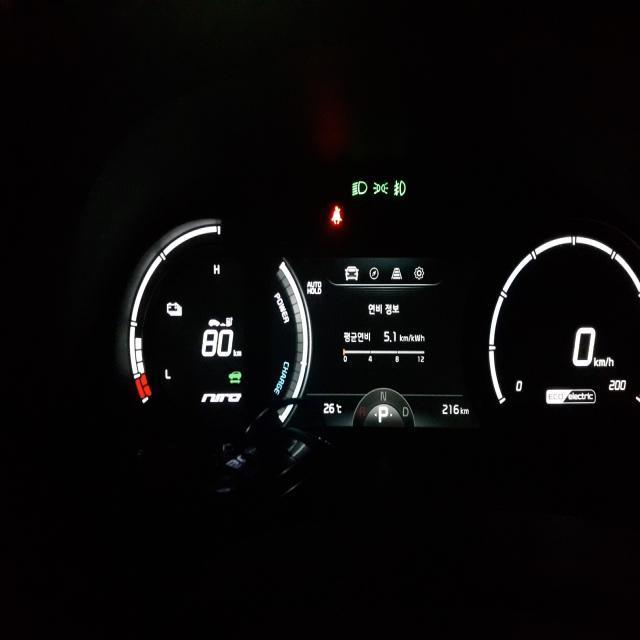FrontFogLight: (392, 178, 406, 197)
Low beam: (350, 179, 368, 196)
SideLamp: (372, 178, 388, 194)
